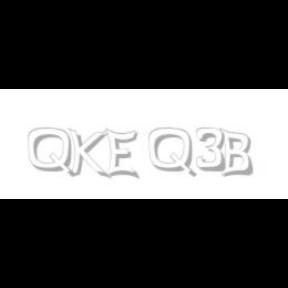3: (197, 128, 228, 172)
B: (219, 128, 253, 178)
E: (106, 128, 138, 180)
K: (68, 128, 108, 180)
Q: (28, 128, 74, 178), (149, 128, 195, 178)
